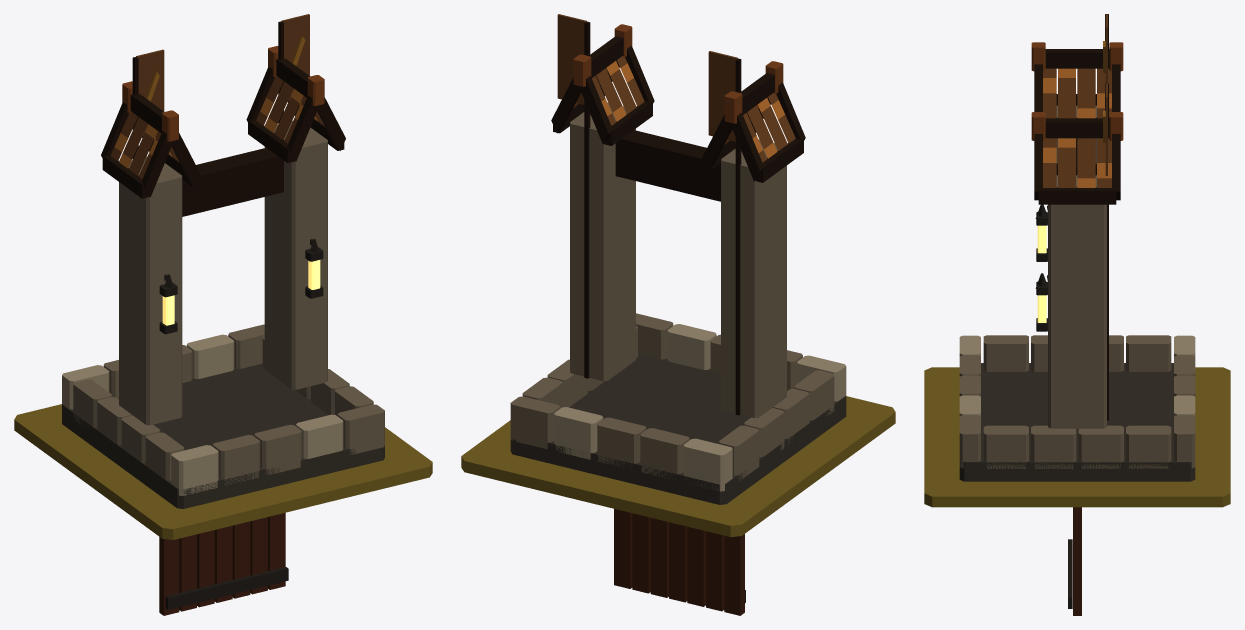
The model's file is gate_t3.glb.
The picture shows the model from 3 angles, left to right: view 1: azimuth 30°, elevation 25°; view 2: azimuth 150°, elevation 25°; view 3: azimuth 270°, elevation 25°; orthographic projection. The views are drawn at different scales.
Parts seen in each view (by area): view 1: MMR | gate | T03 Architecture.001, MMR | gate | Tier 03 Ground.001, MMR | gate | T03 Lift Gate.001, MMR | gate | T03 Banner Flag 1.001, MMR | gate | T03 Banner Flag 2.001; view 2: MMR | gate | T03 Architecture.001, MMR | gate | Tier 03 Ground.001, MMR | gate | T03 Lift Gate.001, MMR | gate | T03 Banner Flag 1.001, MMR | gate | T03 Banner Flag 2.001; view 3: MMR | gate | T03 Architecture.001, MMR | gate | Tier 03 Ground.001, MMR | gate | T03 Lift Gate.001.
Part boxes in pixels (box(x1,y1,x2,y2)): MMR | gate | T03 Architecture.001: box(62, 21, 384, 508); MMR | gate | Tier 03 Ground.001: box(14, 404, 432, 539); MMR | gate | T03 Lift Gate.001: box(159, 512, 288, 615); MMR | gate | T03 Banner Flag 1.001: box(136, 49, 164, 136); MMR | gate | T03 Banner Flag 2.001: box(281, 14, 309, 100); MMR | gate | T03 Architecture.001: box(510, 21, 846, 504); MMR | gate | Tier 03 Ground.001: box(461, 396, 895, 537); MMR | gate | T03 Lift Gate.001: box(614, 509, 745, 615); MMR | gate | T03 Banner Flag 1.001: box(708, 51, 737, 141); MMR | gate | T03 Banner Flag 2.001: box(557, 14, 586, 104); MMR | gate | T03 Architecture.001: box(959, 14, 1195, 481); MMR | gate | Tier 03 Ground.001: box(924, 367, 1230, 507); MMR | gate | T03 Lift Gate.001: box(1068, 507, 1081, 615).
Bounding box in the file's own units: 1.3 × 2.52 × 1.3.
2 materials, 1 textured.
